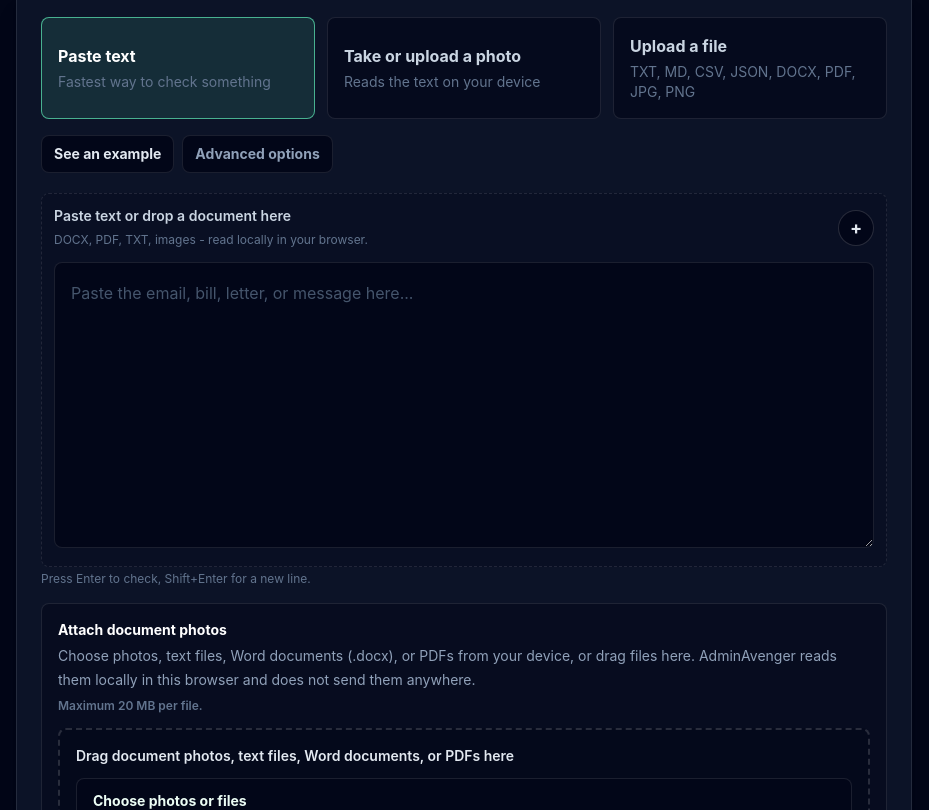
Test: J1: a plain care sentence gets one question, not a document result › offers the five approved choices
(page scrolled)
Type "My father needs care." into the text box labelled "Paste text or drop a document here".
click(464, 405); type("My father needs care.")  # box [54, 262, 874, 548]
(page scrolled)
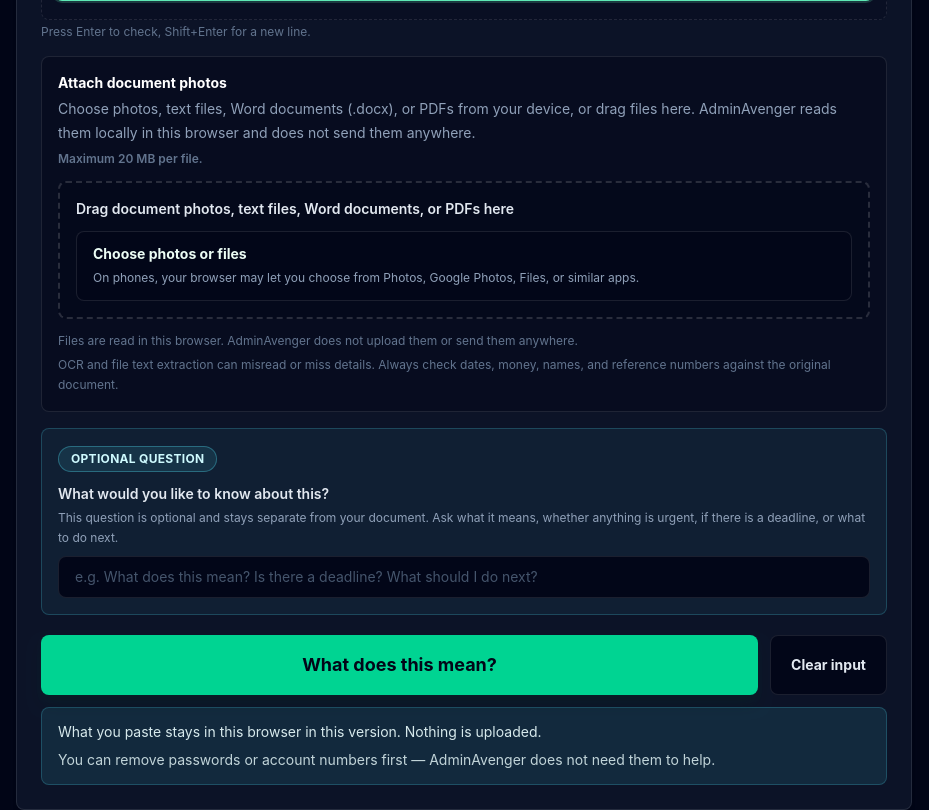
Click the button "What does this mean?".
click(400, 665)  # box [41, 635, 758, 695]
(page scrolled)
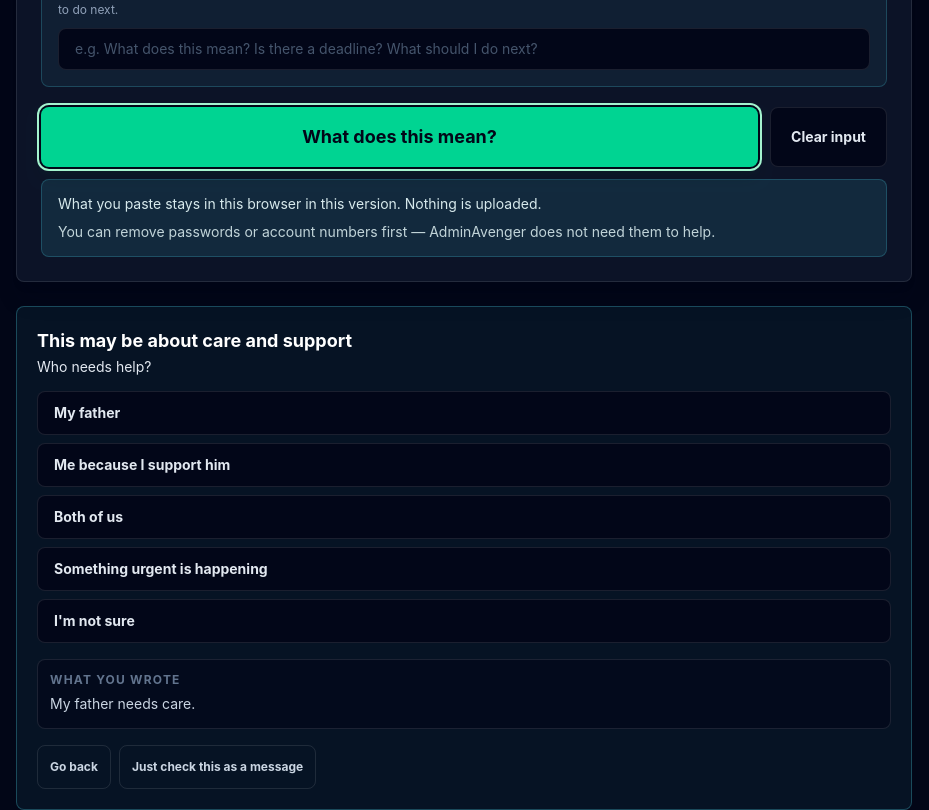
Expected: the button "My father" is shown, [37, 391, 891, 435]
Expected: the button "Me because I support him" is shown, [37, 443, 891, 487]
Expected: the button "Both of us" is shown, [37, 495, 891, 539]
